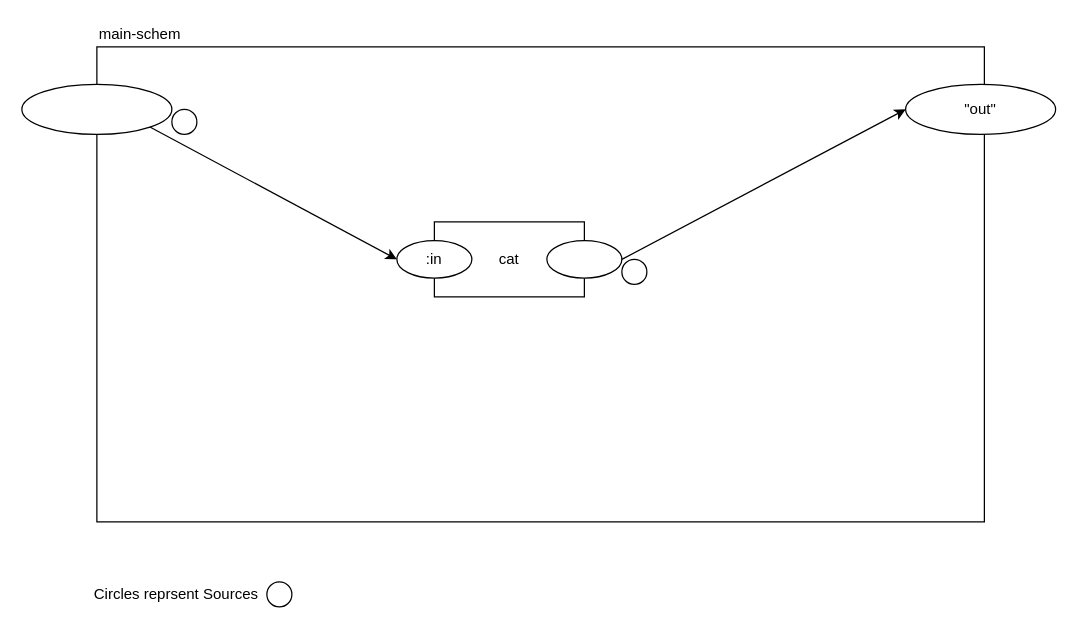
Image size: 1078x629. Some labels were removed from this diagram. Here are the shapes that lost their labels. From the top down, the centre of each, then its label:
pixel 96 108: "in"
pixel 584 258: :out
